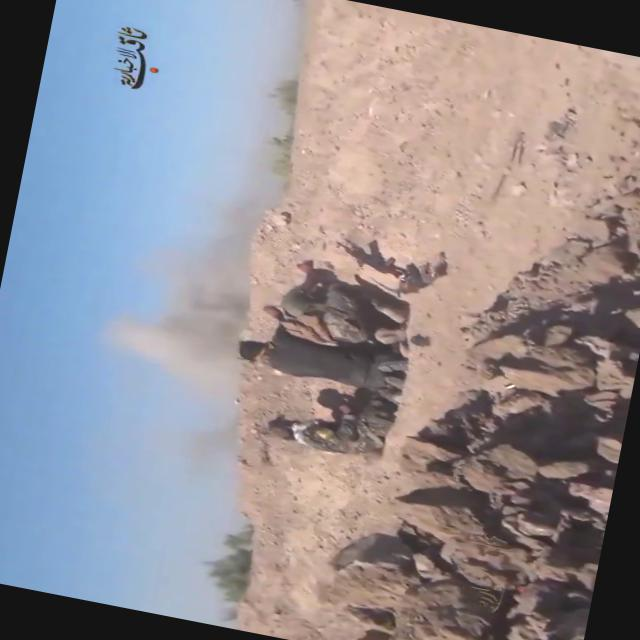long weapon: (318, 230, 427, 290)
